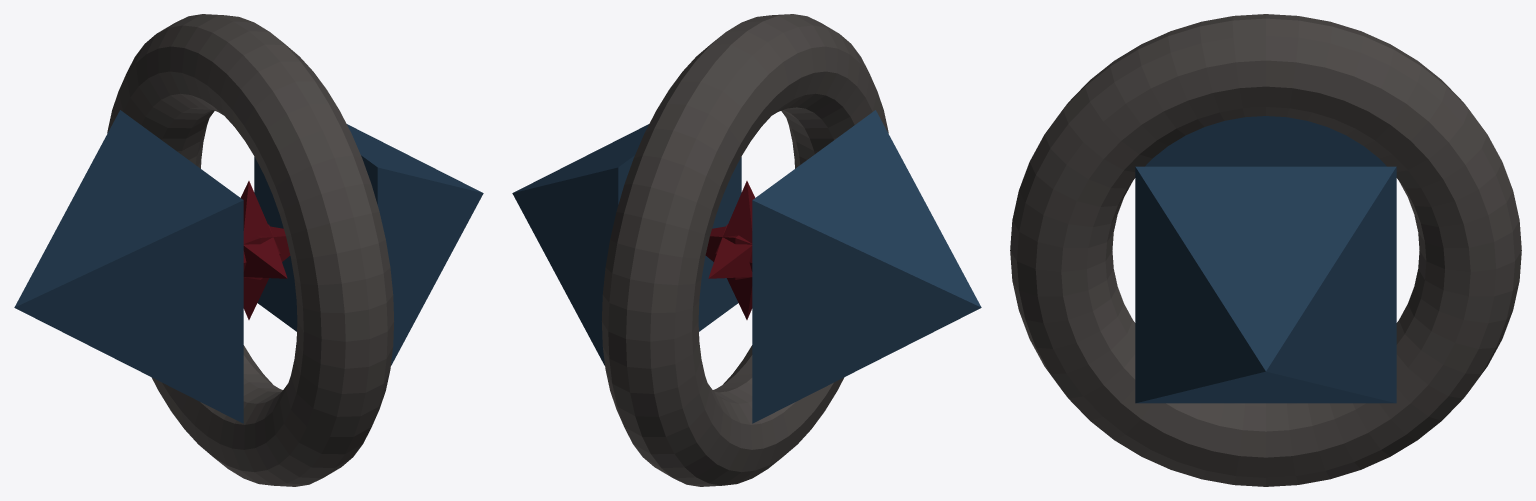
File: CloseEnemy.gltf
3 renders of one model, left to right at view 1: azimuth 30°, elevation 25°; view 2: azimuth 150°, elevation 25°; view 3: azimuth 270°, elevation 25°, orthographic. The views are drawn at different scales.
Visible parts, largest first — view 1: 立方体; view 2: 立方体; view 3: 立方体.
Part boxes in pixels (box(x1,y1,x2,y2)): 立方体: box(14, 14, 483, 486); 立方体: box(512, 14, 981, 486); 立方体: box(1010, 14, 1521, 486).
Size of the model in its own units: 2.8 by 2.5 by 2.5.
1 material, 1 textured.
